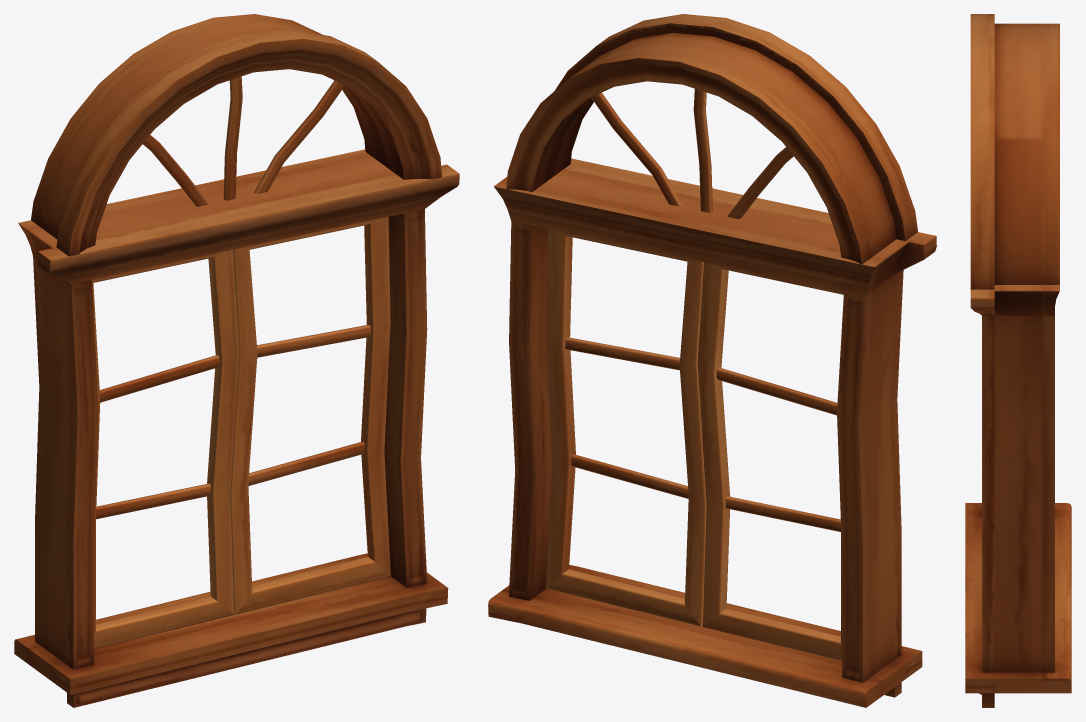
Rendered from PropWindow01TypeH_2_1.FBX.
3 views of the same model, side by side, from view 1: azimuth 30°, elevation 25°; view 2: azimuth 150°, elevation 25°; view 3: azimuth 270°, elevation 25° (orthographic). The views are drawn at different scales.
Visible parts, largest first — view 1: PropWindow01TypeH_2_1; view 2: PropWindow01TypeH_2_1; view 3: PropWindow01TypeH_2_1.
Part boxes in pixels (x1=…): PropWindow01TypeH_2_1: x1=14, y1=14, x2=459, y2=707; PropWindow01TypeH_2_1: x1=488, y1=14, x2=936, y2=707; PropWindow01TypeH_2_1: x1=965, y1=14, x2=1071, y2=707.
Size of what is drawn, in the model's own units: 1.88 by 2.74 by 0.4449.
